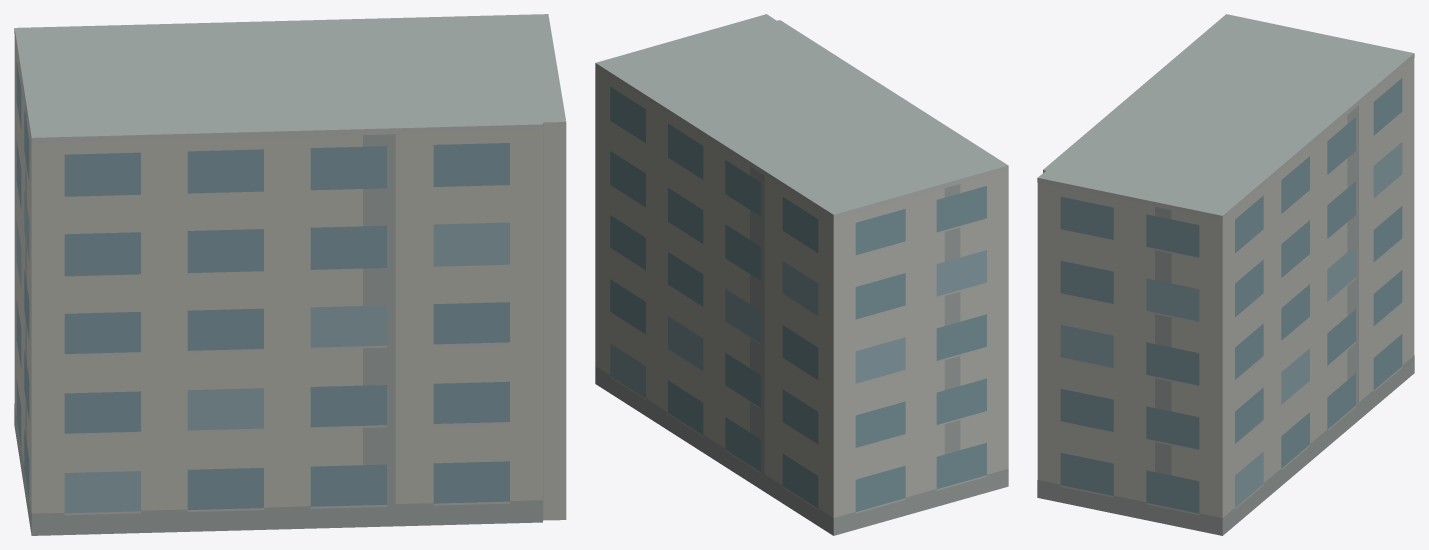
Rendered from survey-upis-32887870.glb.
3 views of the same model, side by side, from view 1: azimuth 30°, elevation 25°; view 2: azimuth 150°, elevation 25°; view 3: azimuth 270°, elevation 25° (orthographic). The views are drawn at different scales.
Visible parts, largest first — view 1: survey-upis-32887870.tmp; view 2: survey-upis-32887870.tmp; view 3: survey-upis-32887870.tmp.
Part boxes in pixels (box(x1,y1,x2,y2)): survey-upis-32887870.tmp: box(14, 14, 566, 535); survey-upis-32887870.tmp: box(595, 14, 1008, 535); survey-upis-32887870.tmp: box(1037, 14, 1414, 535).
Size of the model in its own units: 21.85 by 16.15 by 17.24.
